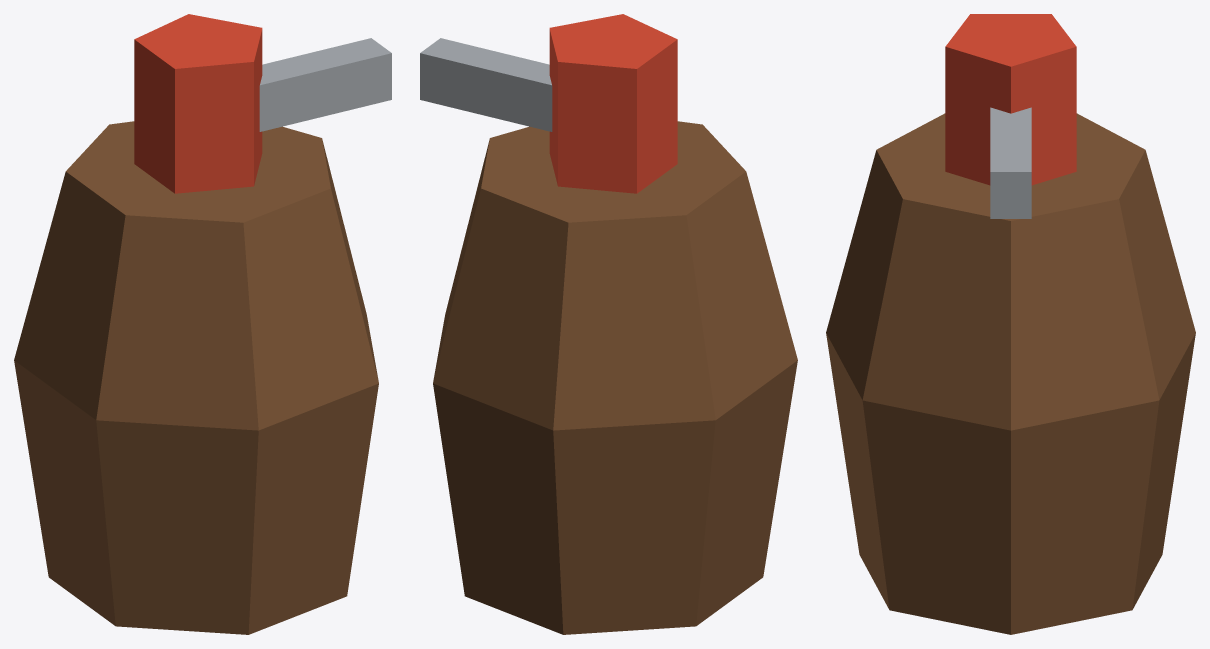
Rendered from molotov.obj.
The picture shows the model from 3 angles, left to right: view 1: azimuth 30°, elevation 25°; view 2: azimuth 150°, elevation 25°; view 3: azimuth 270°, elevation 25°; orthographic projection.
Visible parts, largest first — view 1: molotov; view 2: molotov; view 3: molotov.
Boxes of the visible parts, <box> form: molotov: <box>14,14,391,634</box>; molotov: <box>420,14,797,634</box>; molotov: <box>826,14,1195,634</box>.
Size of the model in its own units: 0.1096 by 0.17 by 0.1072.
